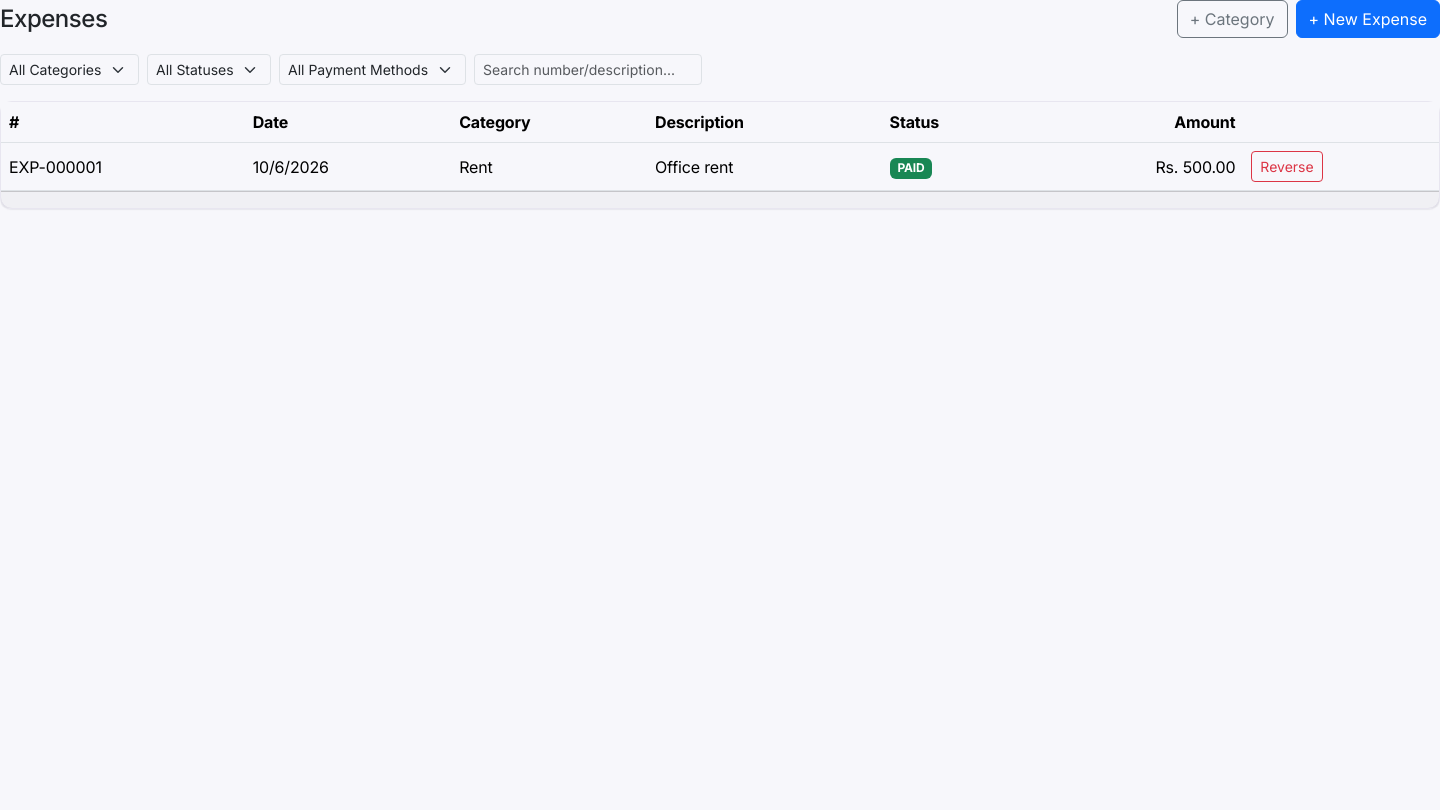
Test: Expenses page (Phase 1.12) › shows a queued (offline) notice when the expense cannot sync immediately
This screenshot has width=1440, height=810.
Expected: the text "EXP-000001" is shown, [1,142,245,190]
Click the button "+ New Expense".
click(1368, 19)  # box [1296,0,1439,38]
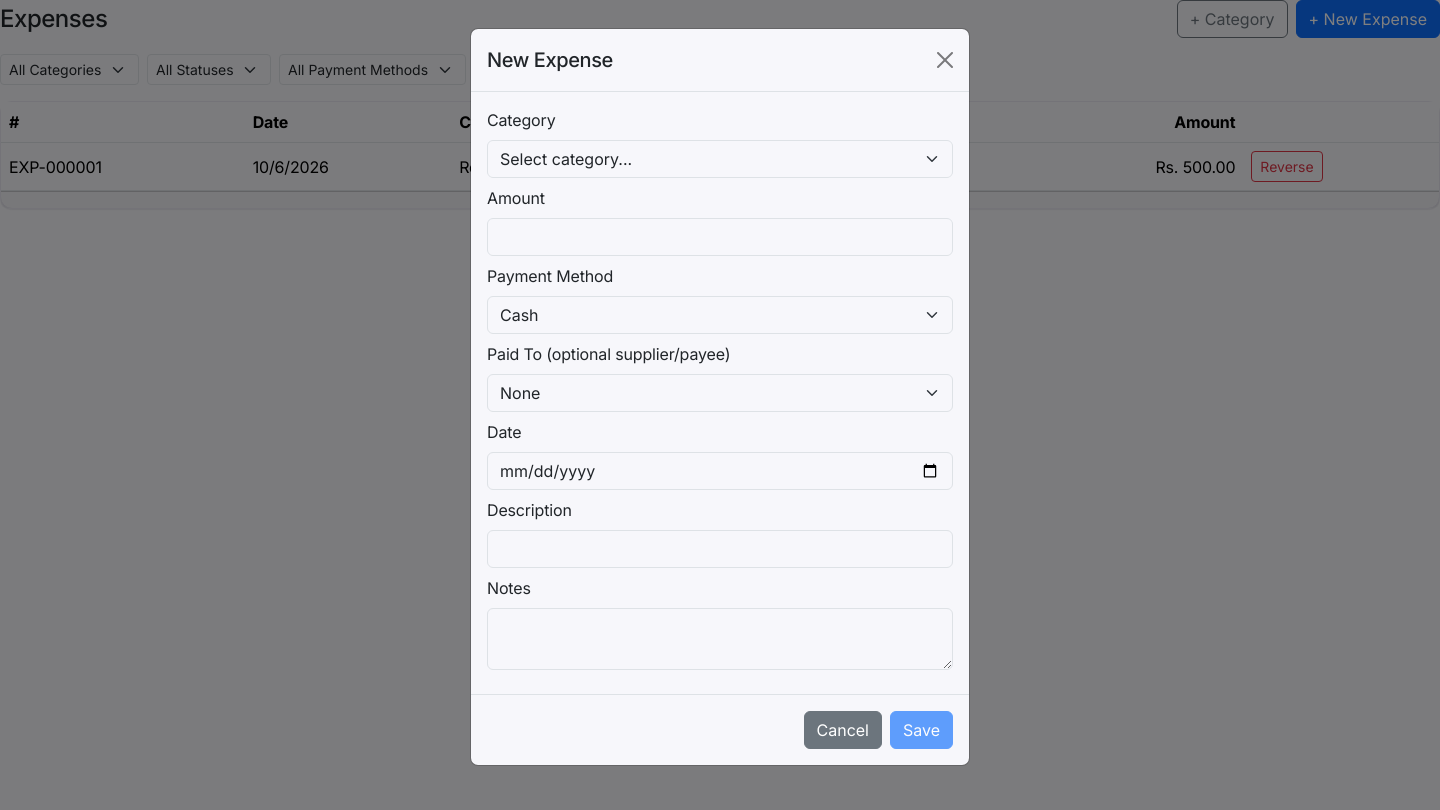
Select "Rent" in the 1st dropdown showing "Select category..." at (720, 159), box [487,140,953,178]
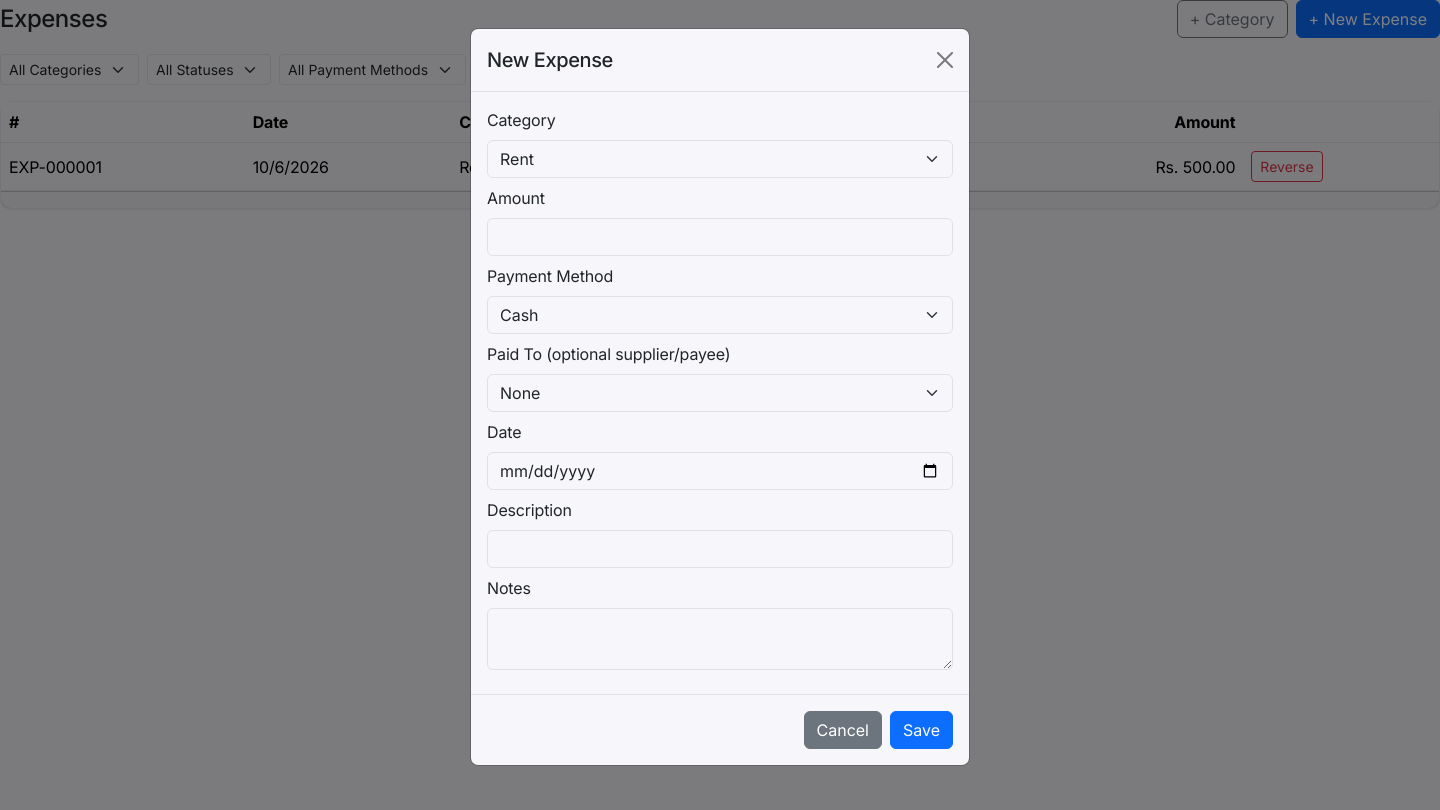
Type "20" into the number field.
click(720, 237); type("20")  # box [487,218,953,256]
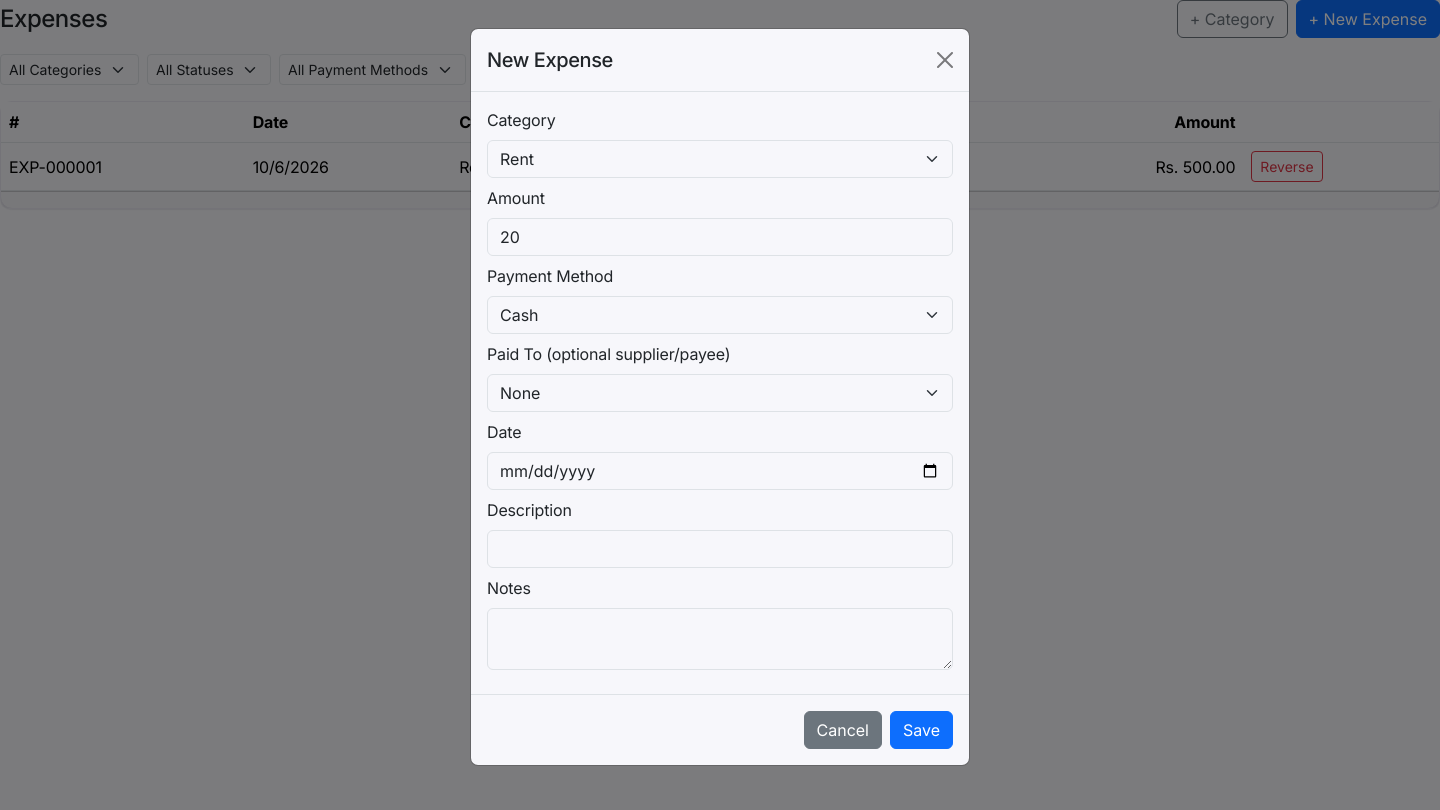
Click the button "Save".
click(922, 730)  # box [890,711,953,749]
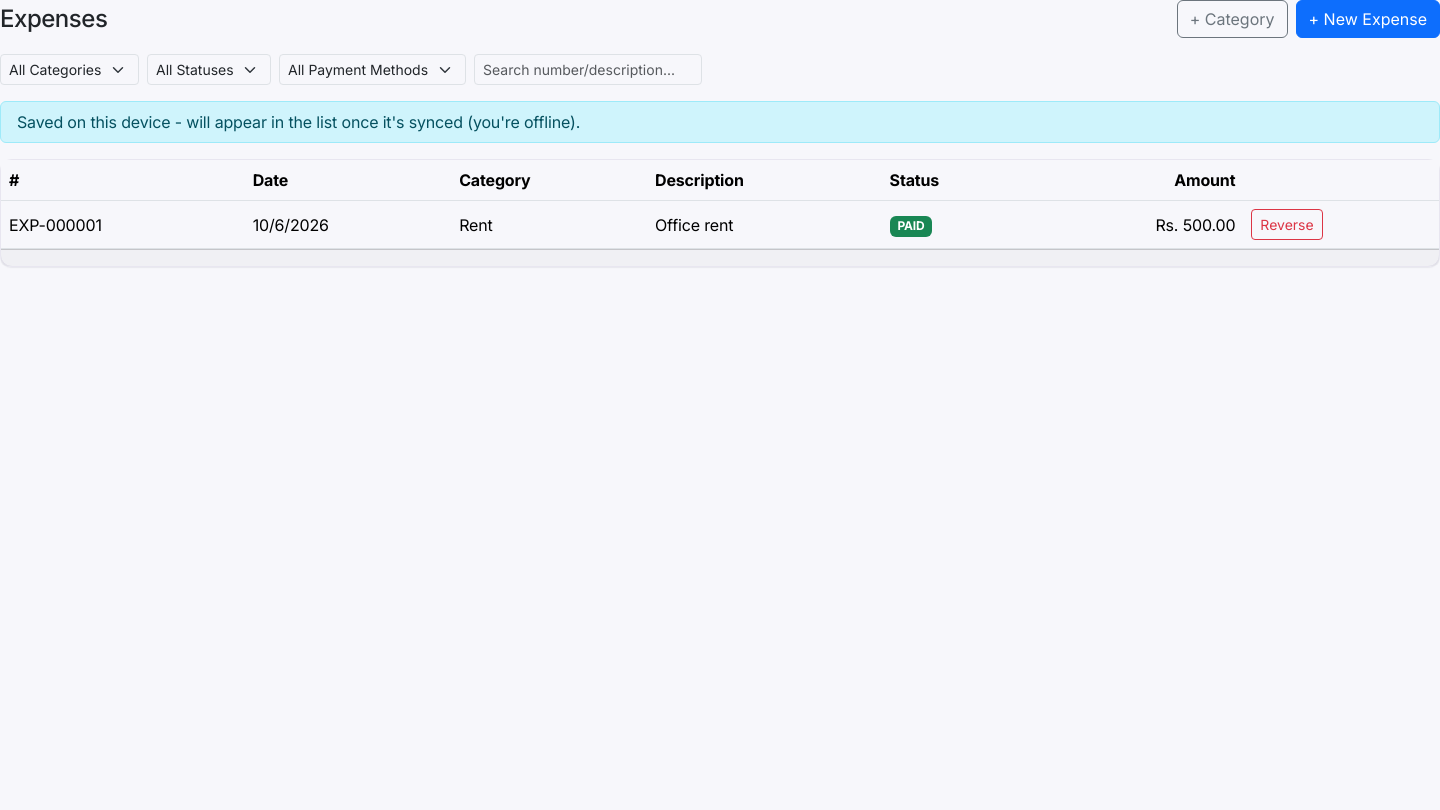
Now the text "will appear in the list once it's synced" is shown, box [17,112,580,132]
